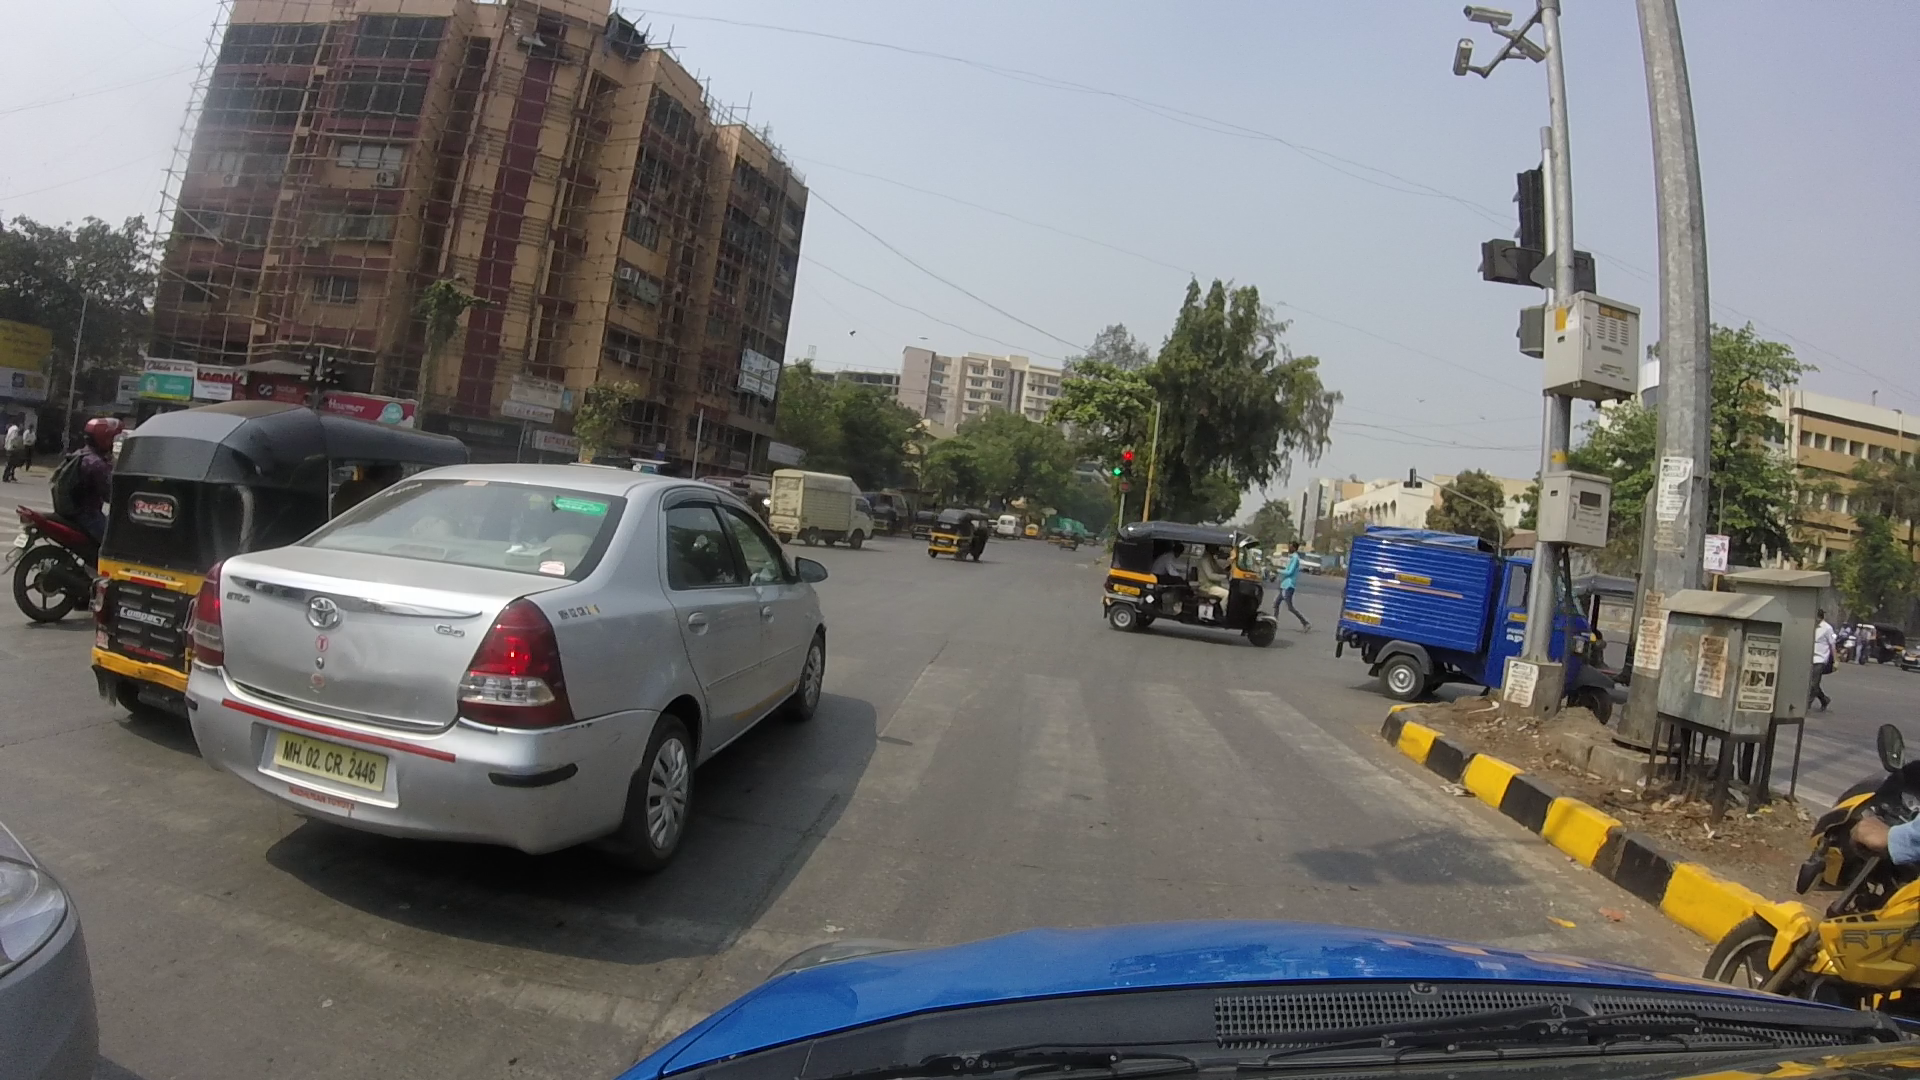bike/scooter: (1704, 748, 1920, 996), (11, 396, 152, 637)
car: (189, 475, 891, 857), (4, 833, 135, 1080)
rickshaw: (71, 407, 427, 719), (1089, 481, 1315, 680)
truck: (1333, 510, 1601, 716)
